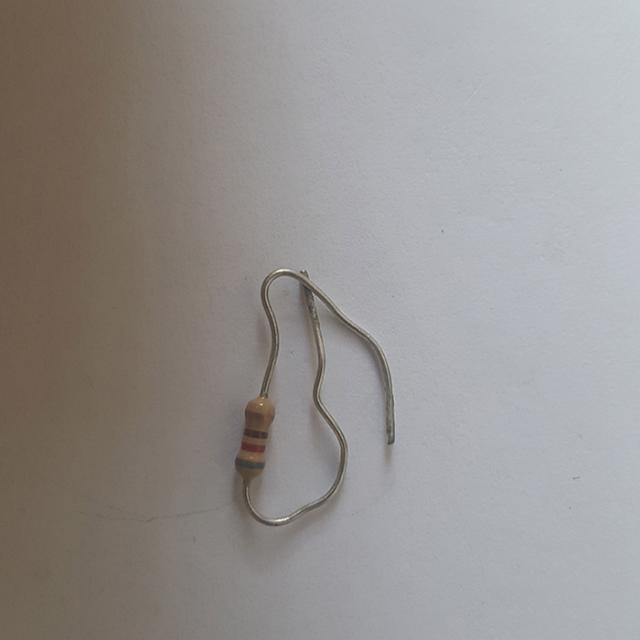brown: (244, 430, 267, 439)
gold: (247, 411, 272, 421)
grey: (237, 460, 265, 469)
red: (240, 442, 264, 453)
resistor: (225, 386, 285, 488)
